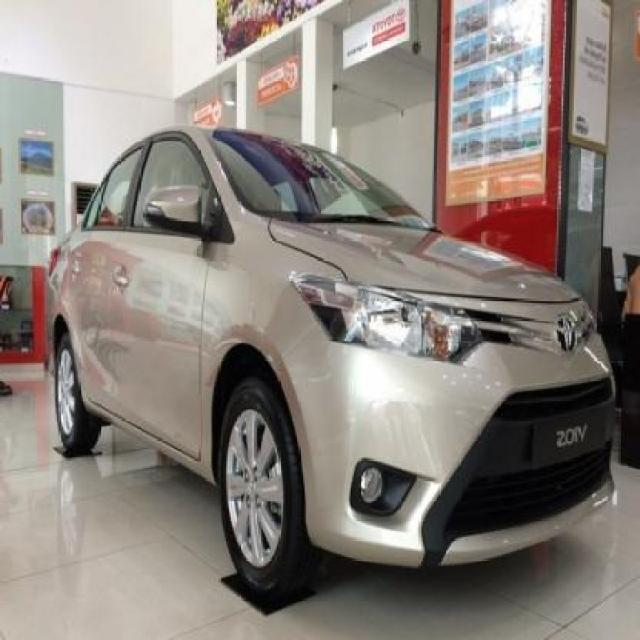ToyotaVios: (43, 121, 619, 602)
